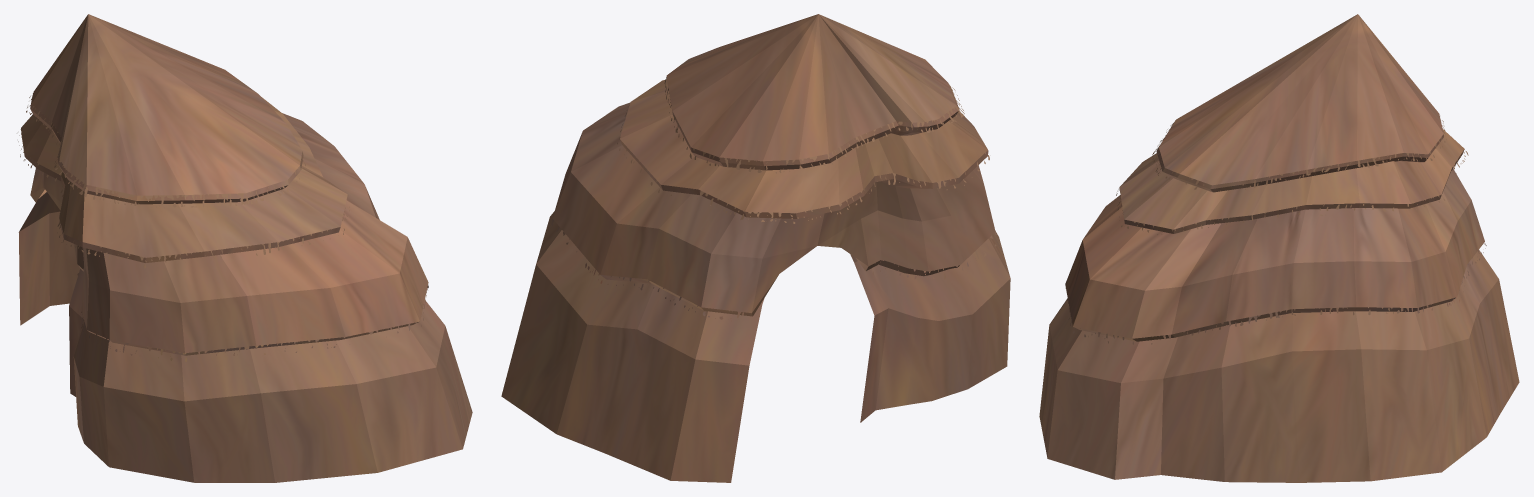
File: FinalHut.fbx
3 renders of one model, left to right at view 1: azimuth 30°, elevation 25°; view 2: azimuth 150°, elevation 25°; view 3: azimuth 270°, elevation 25°, orthographic. The views are drawn at different scales.
Parts seen in each view (by area): view 1: Cone.002; view 2: Cone.002; view 3: Cone.002.
Part boxes in pixels (bbox=[...]): Cone.002: bbox=[18, 14, 472, 482]; Cone.002: bbox=[501, 14, 1010, 482]; Cone.002: bbox=[1039, 14, 1519, 482].
Bounding box in the file's own units: 397 × 402 × 502.
